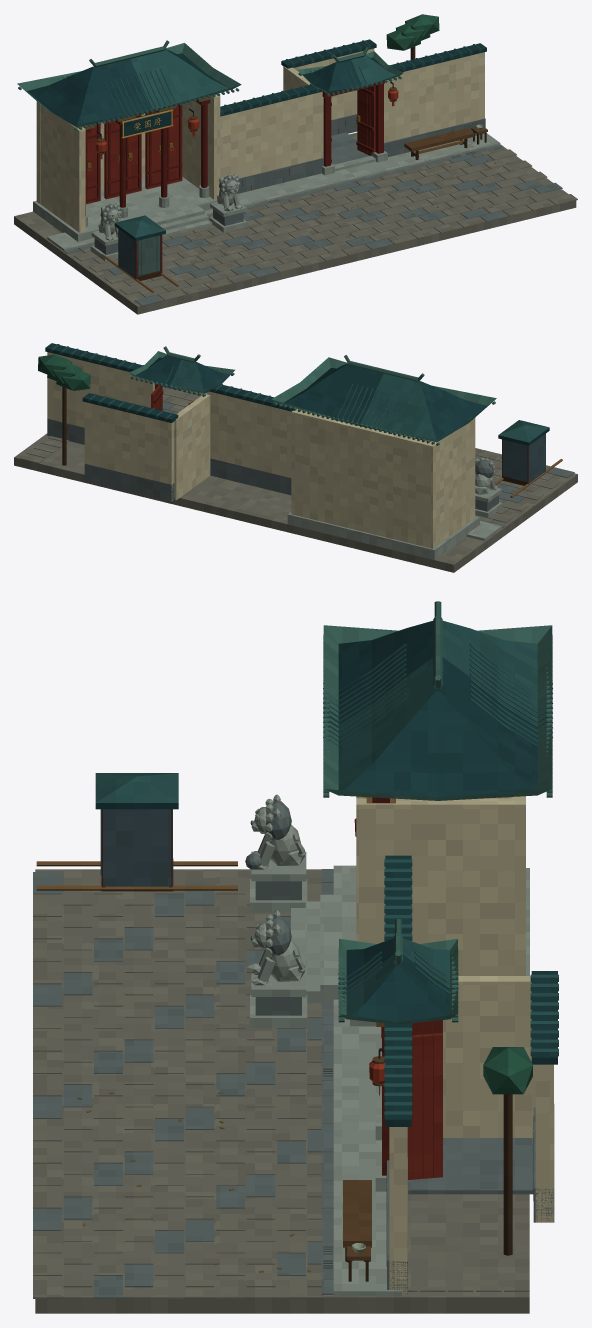
Rendered from rongfu-gate.glb.
3 views of the same model, one above another, from view 1: azimuth 30°, elevation 25°; view 2: azimuth 150°, elevation 25°; view 3: azimuth 270°, elevation 25° (orthographic). The views are drawn at different scales.
Visible parts, largest first — view 1: Main_gate_hip_roof, Street_foundation, Boundary_wall, Boundary_wall.001, Gatehouse_side, Wall_apron, Gatehouse_plinth, Gatehouse_side.001, Side_gate_roof, Wall_stone_dado, Closed_main_door.002, Gatehouse_rear (+25 smaller); view 2: Gatehouse_rear, Street_foundation, Main_gate_hip_roof, Boundary_wall.002, Boundary_wall, Gatehouse_side, Boundary_wall.001, Inner_gate_return_wall, Side_gate_roof, Gatehouse_plinth, Wall_stone_dado.002, Wall_stone_dado (+13 smaller); view 3: Main_gate_hip_roof, Street_foundation, Gatehouse_side.001, Wall_apron, Inner_gate_return_wall, Side_gate_roof, Sedan_side.001, Courtyard_floor, Boundary_wall.001, Boundary_wall.002, Gatehouse_rear, Sedan_roof (+19 smaller).
Boxes of the visible parts, box(x1,y1,x2,y2) form: Main_gate_hip_roof: box(17, 43, 241, 127); Street_foundation: box(14, 132, 576, 314); Boundary_wall: box(220, 91, 323, 178); Boundary_wall.001: box(384, 52, 484, 142); Gatehouse_side: box(40, 105, 85, 232); Wall_apron: box(47, 133, 500, 251); Gatehouse_plinth: box(33, 177, 217, 241); Gatehouse_side.001: box(182, 94, 220, 199); Side_gate_roof: box(297, 51, 403, 93); Wall_stone_dado: box(236, 158, 323, 193); Closed_main_door.002: box(104, 120, 119, 199); Gatehouse_rear: box(36, 101, 145, 204); Gatehouse_rear: box(291, 410, 436, 548); Street_foundation: box(14, 388, 577, 572); Main_gate_hip_roof: box(271, 357, 496, 442); Boundary_wall.002: box(84, 402, 174, 500); Boundary_wall: box(206, 391, 291, 477); Gatehouse_side: box(429, 418, 475, 545); Boundary_wall.001: box(47, 352, 154, 427); Inner_gate_return_wall: box(174, 393, 210, 500); Side_gate_roof: box(129, 351, 234, 393); Gatehouse_plinth: box(287, 512, 479, 560); Wall_stone_dado.002: box(84, 463, 174, 501); Wall_stone_dado: box(210, 458, 291, 495); Main_gate_hip_roof: box(323, 620, 552, 800); Street_foundation: box(35, 869, 529, 1313); Gatehouse_side.001: box(356, 798, 522, 975); Wall_apron: box(333, 865, 401, 1296); Inner_gate_return_wall: box(443, 976, 535, 1137); Side_gate_roof: box(339, 938, 457, 1024); Sedan_side.001: box(103, 809, 171, 886); Courtyard_floor: box(408, 1138, 533, 1194); Boundary_wall.001: box(389, 1127, 407, 1294); Boundary_wall.002: box(535, 1064, 553, 1222); Gatehouse_rear: box(511, 796, 525, 975); Sedan_roof: box(95, 773, 178, 802).
Bounding box in the file's own units: 16.65 × 6.1 × 8.62.
Materials: 23 (23 with a texture image).
